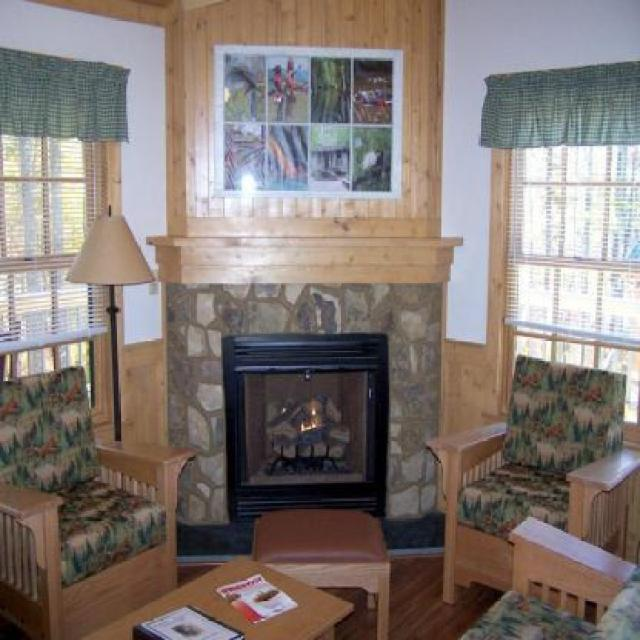Fire: (296, 418, 321, 434)
